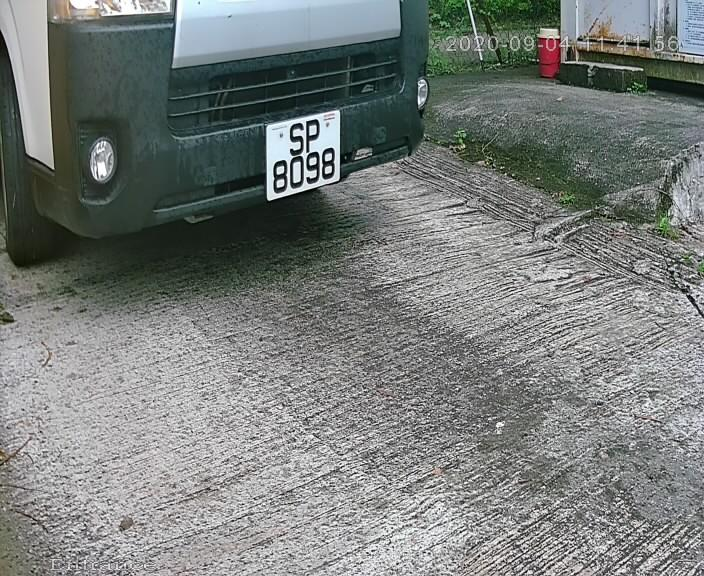License Plate: (258, 101, 349, 201)
